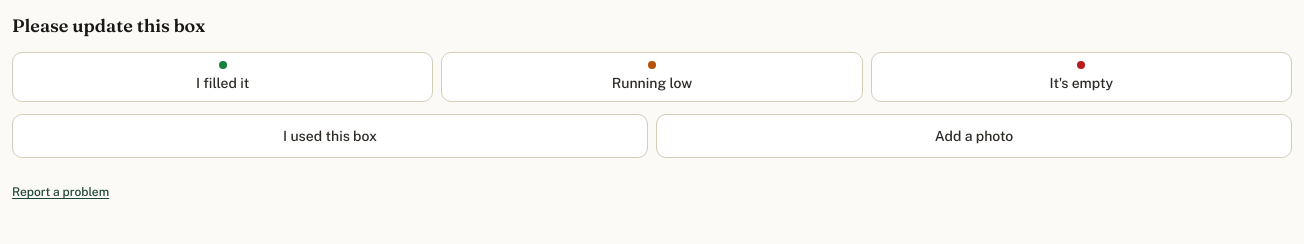
Test case: BoxCheckinPanel — a queued tap that never resolves is not stuck forever › no token within the time limit also switches to the fallback widget, not a failure
Click the button "I used this box" at (330, 136), box [12,114,648,158]
Wait 15000 ms
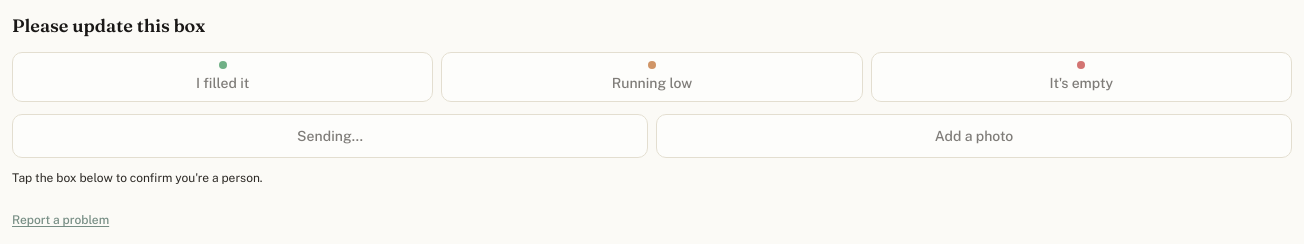
Result: the button "Sending…" is shown at [12,114,648,158]
